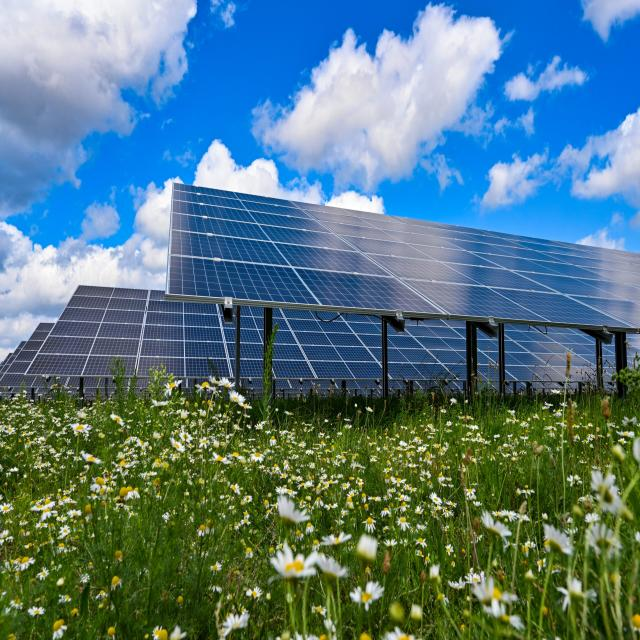clean-solar-panel: (168, 180, 640, 331), (22, 287, 640, 379)
